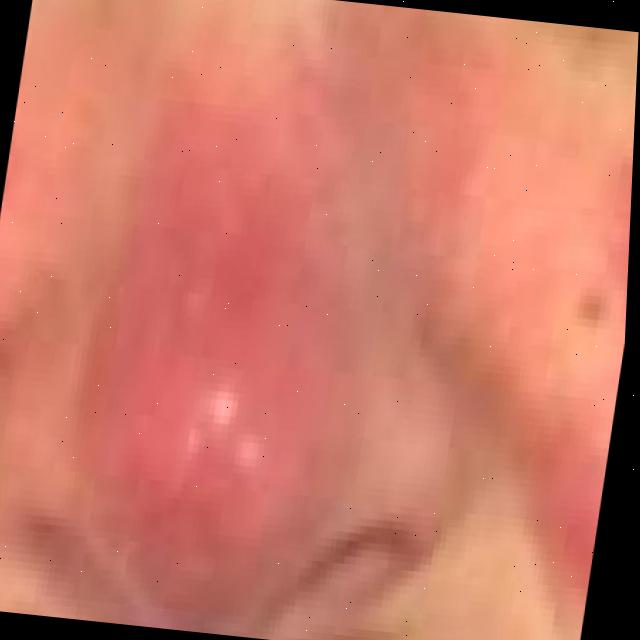Rosacea: (0, 40, 638, 576)
